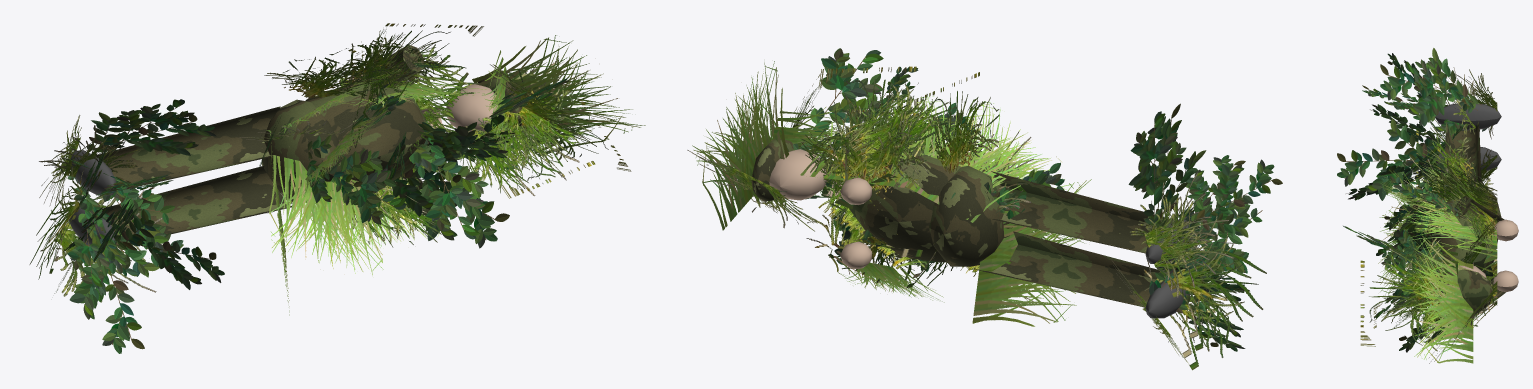
The model's file is person_ghillie_prone.glb.
The picture shows the model from 3 angles, left to right: view 1: azimuth 30°, elevation 25°; view 2: azimuth 150°, elevation 25°; view 3: azimuth 270°, elevation 25°; orthographic projection. The views are drawn at different scales.
Size of the model in its own units: 2.61 by 1.18 by 0.8414.
5 materials, 3 textured.
